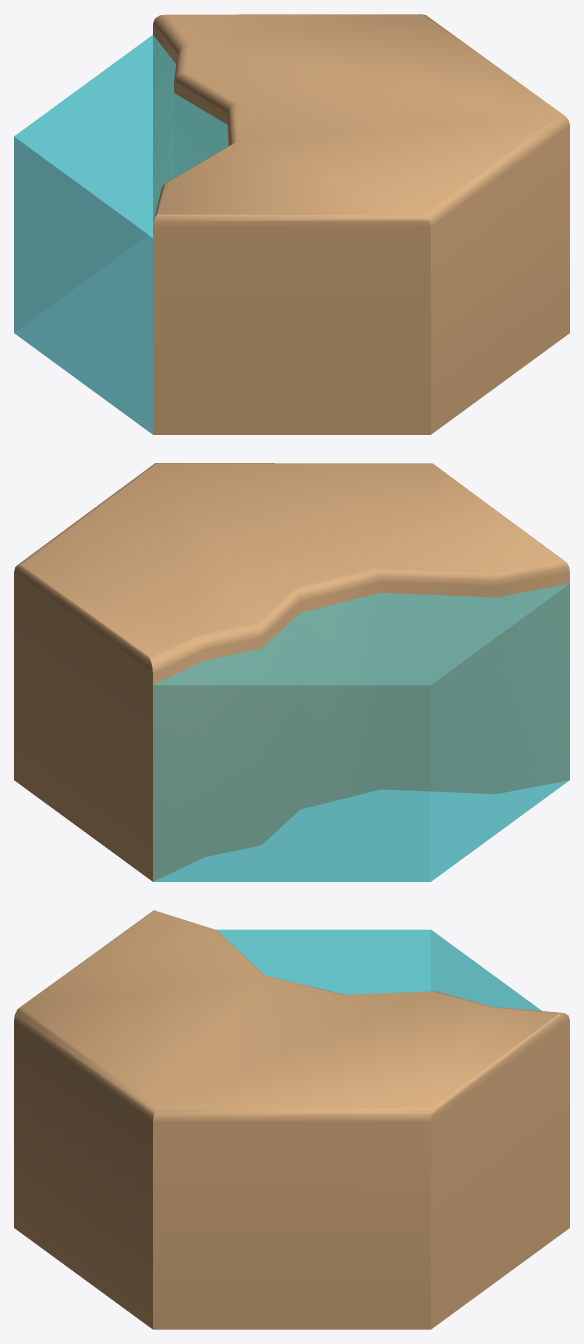
Rendered from hex_sand_waterD.fbx.
3 renders of one model, top to bottom at view 1: azimuth 30°, elevation 25°; view 2: azimuth 150°, elevation 25°; view 3: azimuth 270°, elevation 25°, orthographic.
Parts seen in each view (by area): view 1: hex_sand_waterD; view 2: hex_sand_waterD; view 3: hex_sand_waterD.
Part boxes in pixels (left/top/right/bottom): hex_sand_waterD: left=14, top=14, right=569, bottom=434; hex_sand_waterD: left=14, top=463, right=569, bottom=881; hex_sand_waterD: left=14, top=910, right=569, bottom=1329.
Bounding box in the file's own units: 2 × 1 × 2.31.
